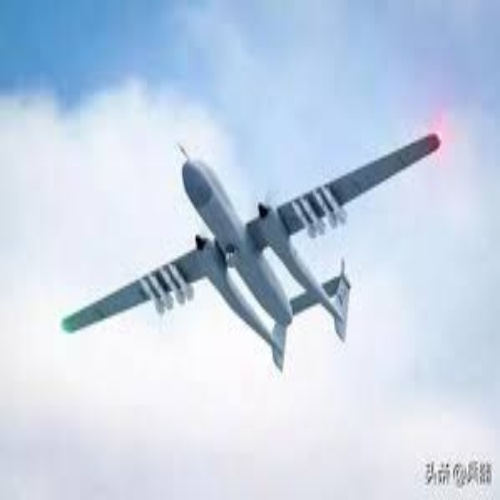uav493: (65, 128, 443, 372)
